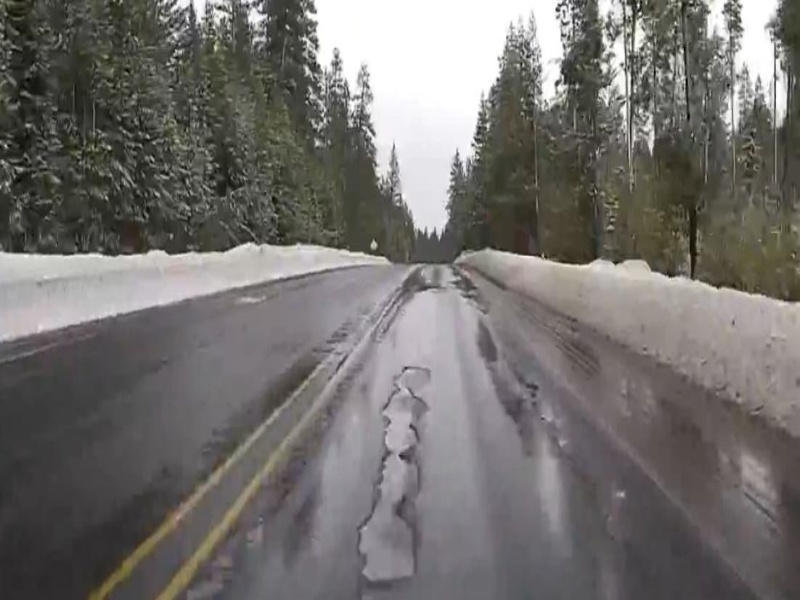pothole: (354, 504, 422, 587), (366, 457, 420, 503), (380, 384, 426, 424), (373, 423, 423, 457)
